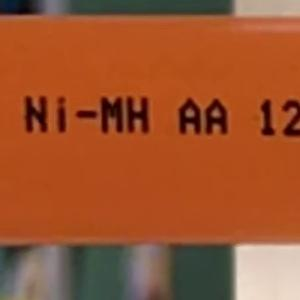keyword: (15, 87, 159, 142)
